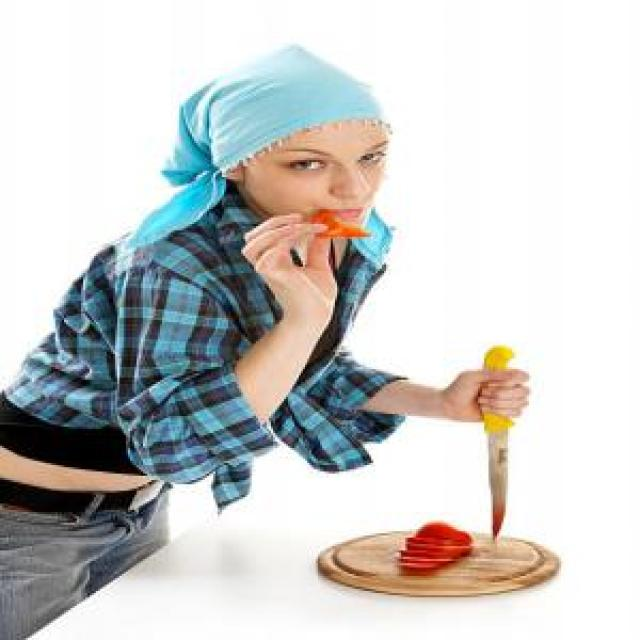knife: (478, 344, 516, 545)
